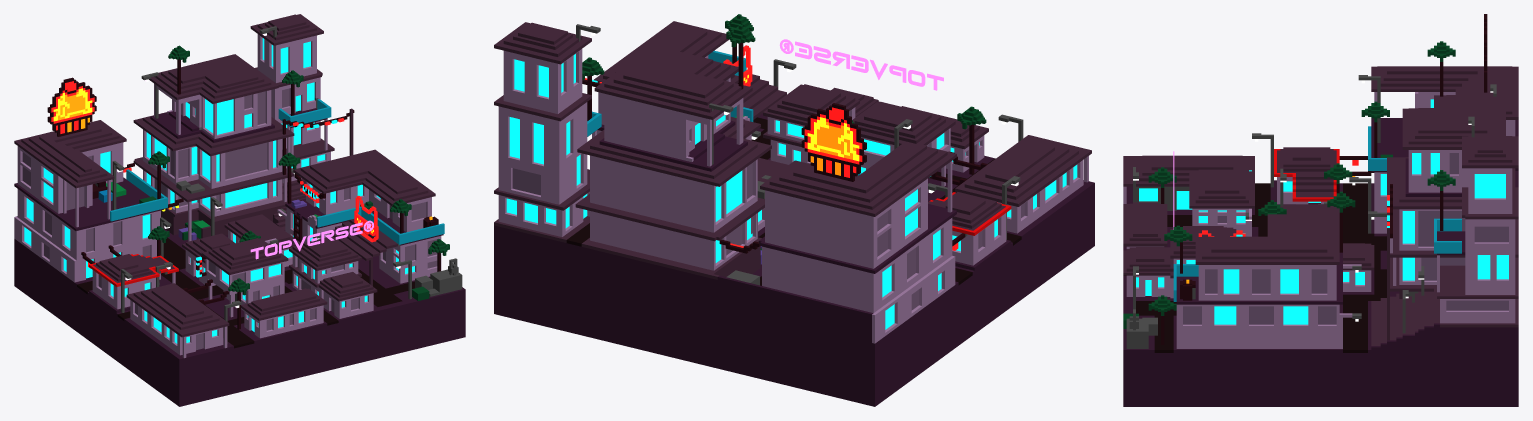
File: Night-City.gltf
3 renders of one model, left to right at view 1: azimuth 30°, elevation 25°; view 2: azimuth 150°, elevation 25°; view 3: azimuth 270°, elevation 25°, orthographic. The views are drawn at different scales.
Visible parts, largest first — view 1: Object_2, TOPVERSE.001; view 2: Object_2, TOPVERSE.001; view 3: Object_2.
Part boxes in pixels (bbox=[...]): Object_2: bbox=[14, 14, 465, 406]; TOPVERSE.001: bbox=[250, 220, 373, 259]; Object_2: bbox=[494, 14, 1094, 406]; TOPVERSE.001: bbox=[779, 39, 943, 90]; Object_2: bbox=[1123, 14, 1518, 406].
Bounding box in the file's own units: 126 × 97 × 126.
2 materials, 1 textured.
